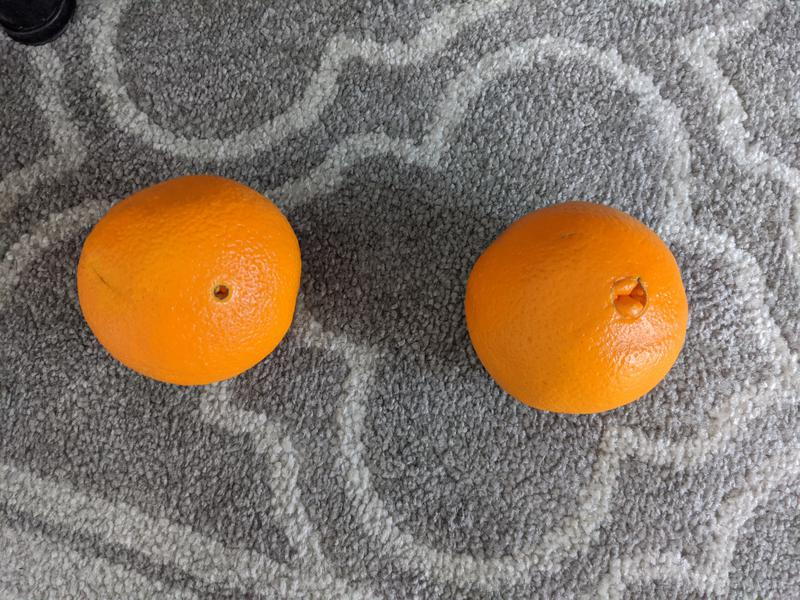orange: (76, 174, 303, 387), (463, 201, 690, 414)
